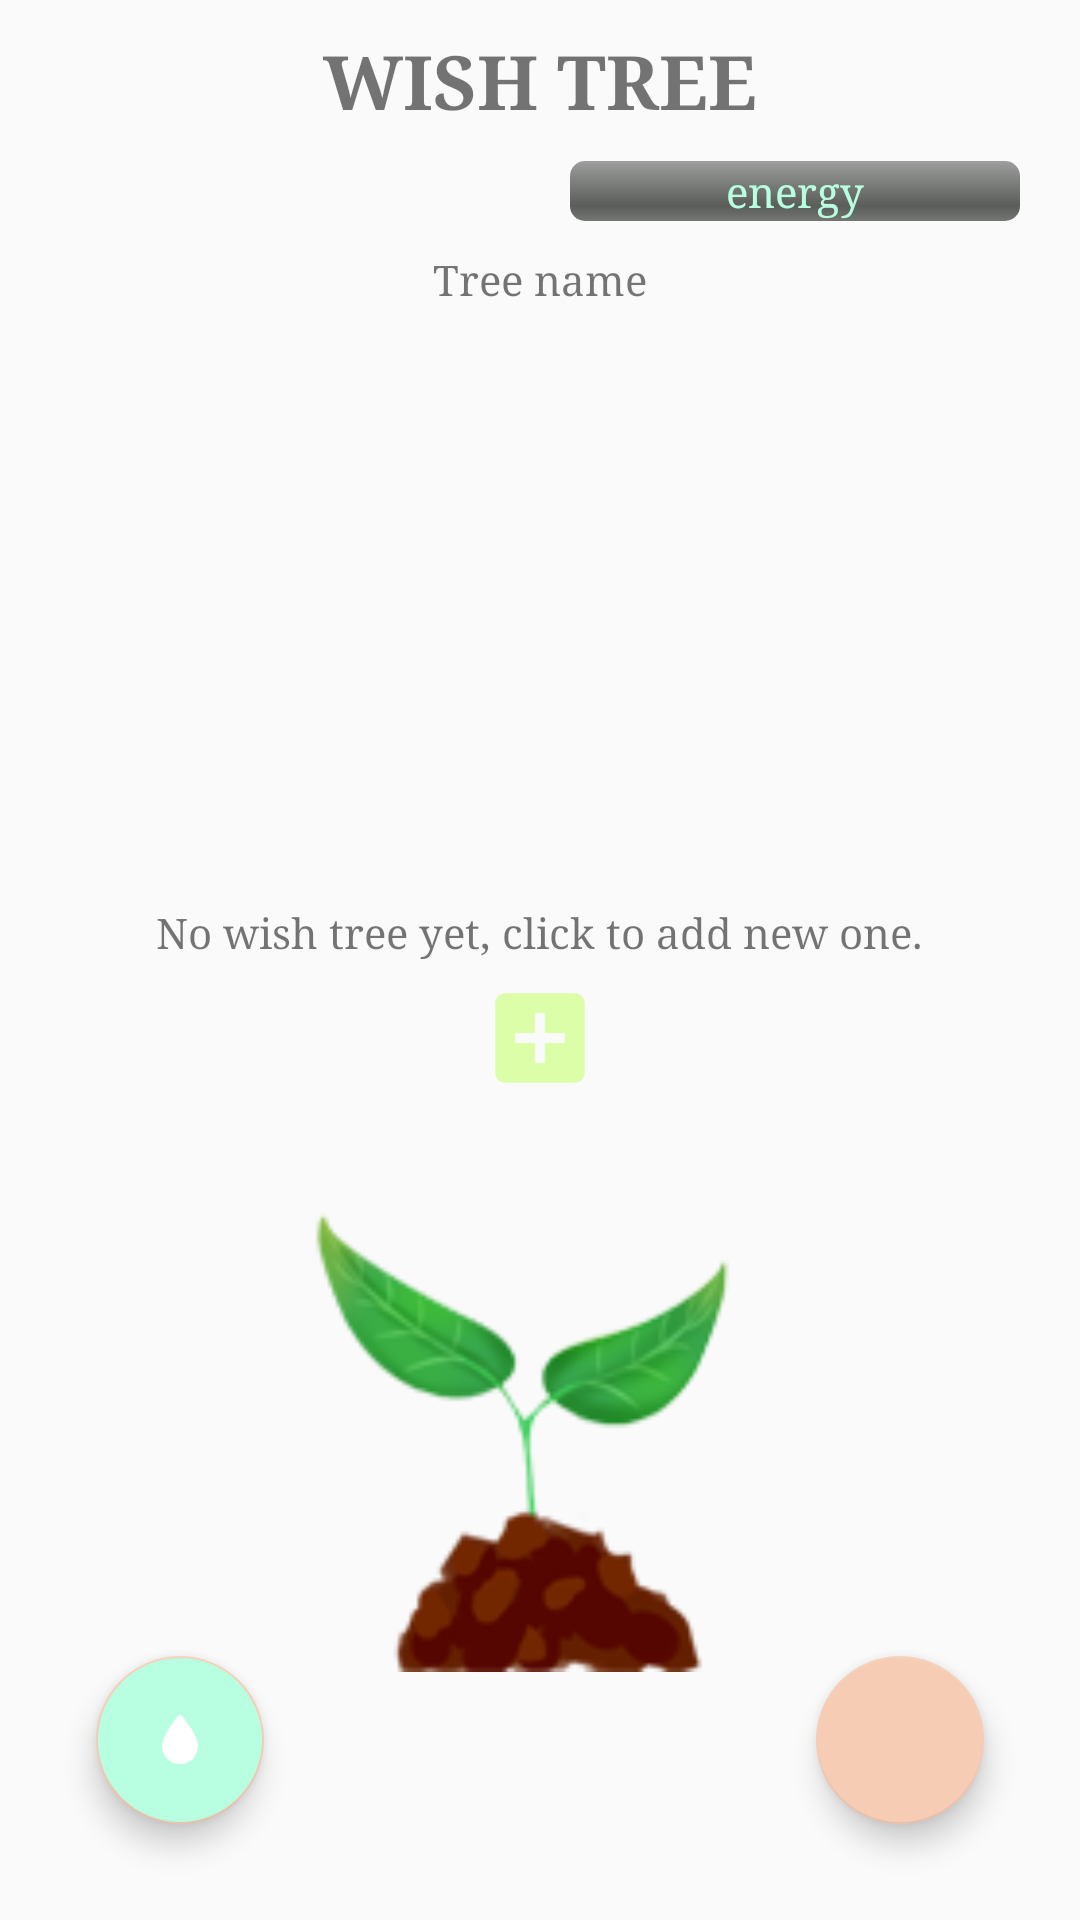

Where to tap for icons on this 1080 x 1920 app screen, as (x=x, y=y):
water: (x=180, y=1740)
